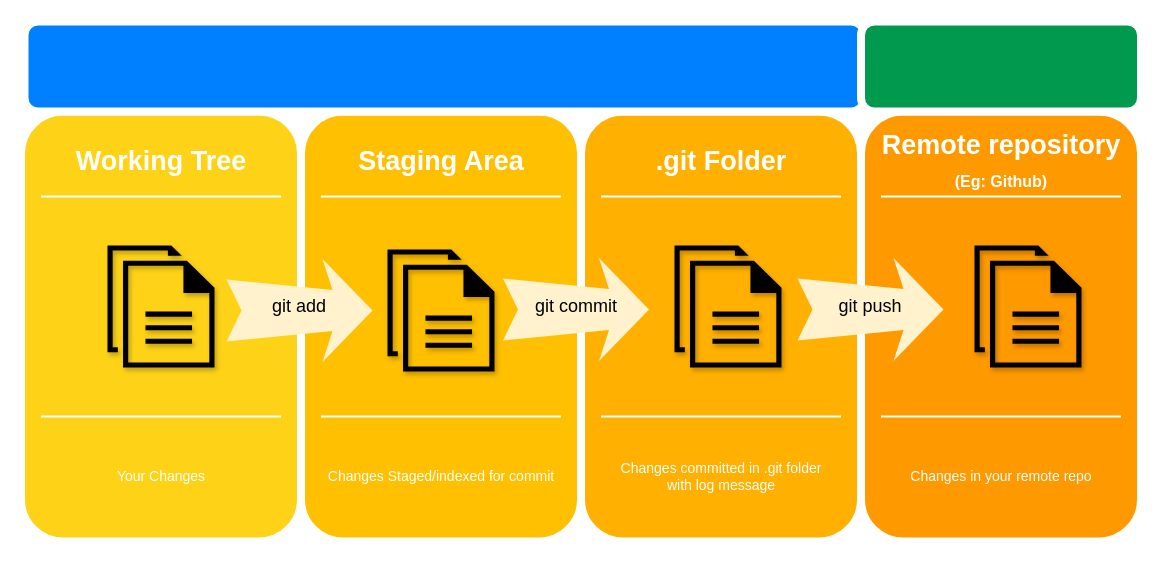
This 1162x562 diagram has some shape labels left out. Here are the shapes that lost their labels. From the top down, the centre of each, then its label:
the point at 444,66: Local
the point at 1000,66: Remote
